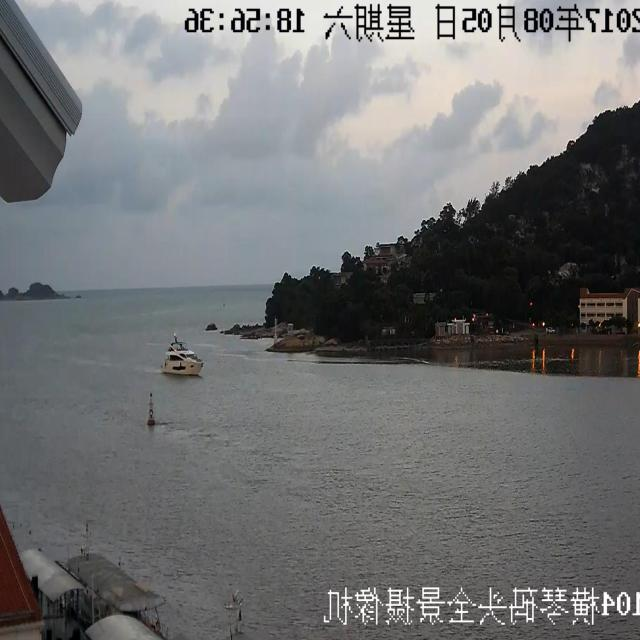buoy: (142, 390, 161, 431)
passenger ship: (153, 326, 212, 378)
